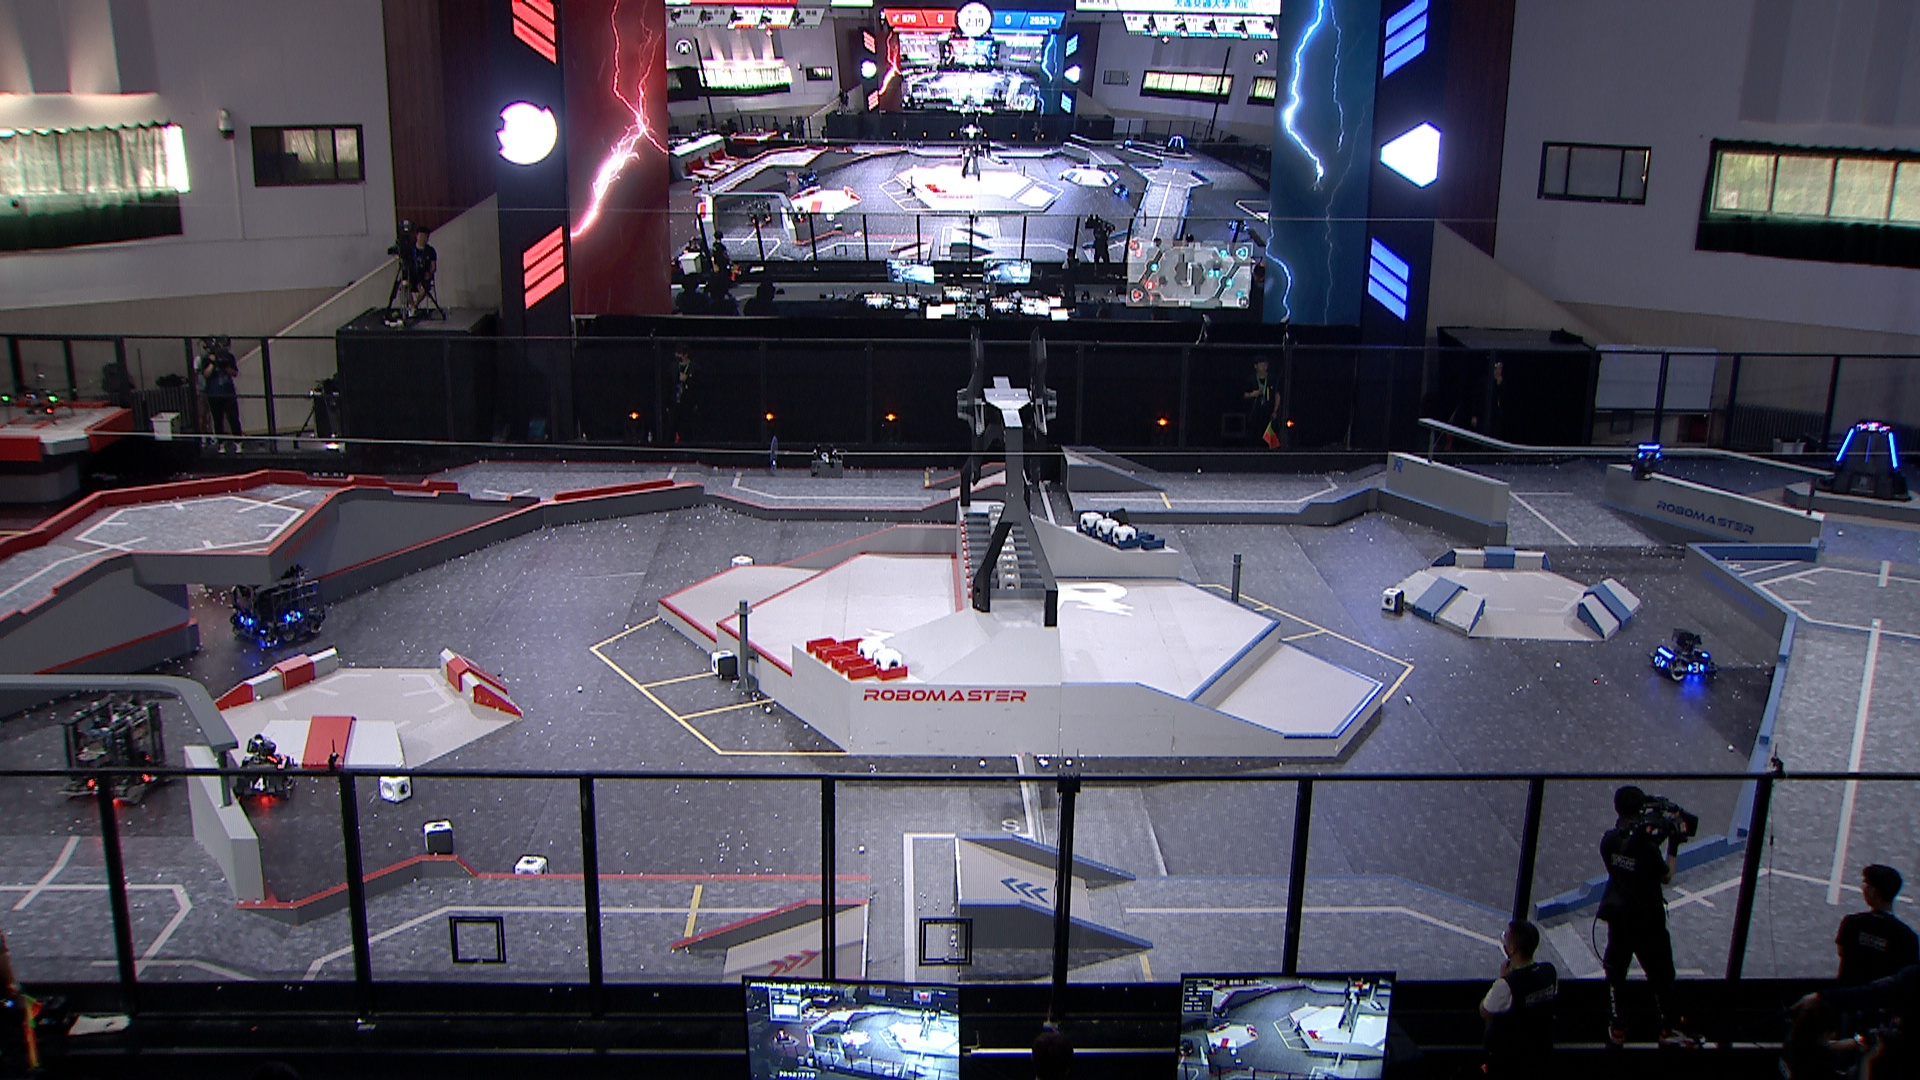armor: (1832, 425, 1855, 463), (1884, 433, 1899, 471), (1863, 433, 1876, 465), (248, 775, 272, 793), (1634, 448, 1662, 462), (235, 612, 256, 628), (1691, 644, 1709, 659), (1687, 659, 1705, 675), (281, 609, 302, 622), (1652, 654, 1669, 669)
base: (1813, 410, 1915, 505)
car: (58, 688, 174, 802), (229, 562, 327, 651), (229, 735, 299, 802), (1648, 626, 1721, 684)
ignore: (742, 195, 775, 228), (1164, 131, 1188, 156), (789, 202, 814, 223), (770, 1029, 794, 1046), (1859, 419, 1890, 433), (1182, 1035, 1197, 1058)
watcher: (1627, 433, 1664, 484)
